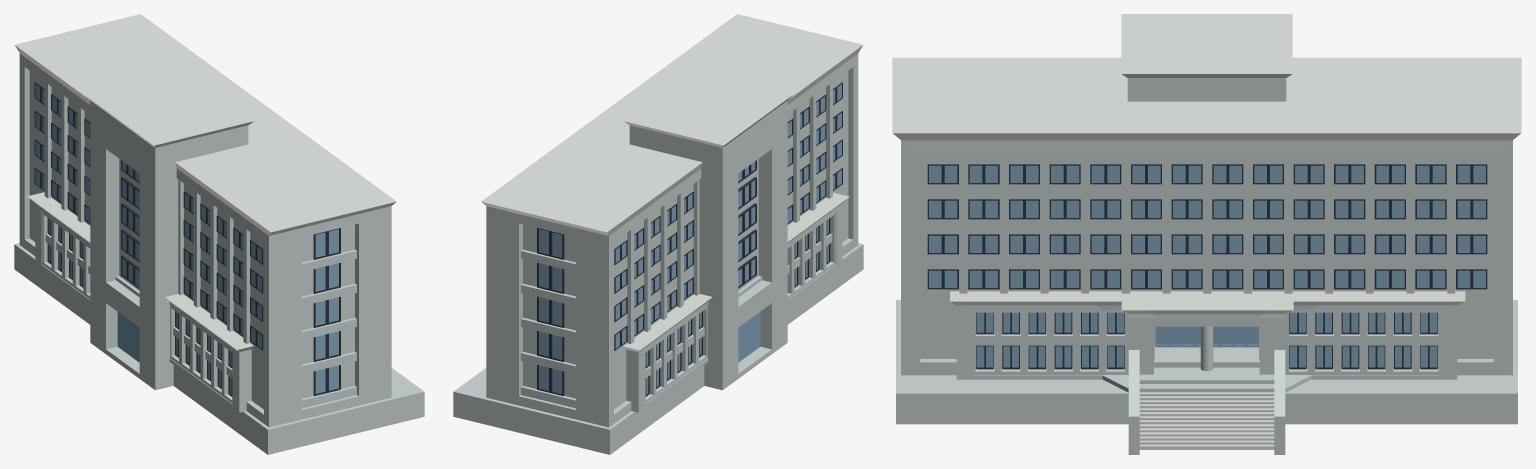
Rendered from 융합관.fbx.
3 views of the same model, side by side, from view 1: azimuth 30°, elevation 25°; view 2: azimuth 150°, elevation 25°; view 3: azimuth 270°, elevation 25° (orthographic). The views are drawn at different scales.
Visible parts, largest first — view 1: build.003, build, build.002, Cube.002, Cube, window, window.003, Cube.003, window.005, window.001, window.004, Cube.001; view 2: build.003, build, build.002, Cube.002, Cube, window, window.003, Cube.003, window.005, window.001, window.004, Cube.001; view 3: build.003, window, build.001, Cube.002, Cube, build, window.001, stair, Cube.001, Cube.004, window.002, Cylinder.
Part boxes in pixels (x1,y1,x2,y2): build.003: [15, 14, 396, 427]; build: [84, 70, 253, 390]; build.002: [28, 192, 253, 412]; Cube.002: [14, 243, 424, 454]; Cube: [44, 82, 250, 343]; window: [34, 82, 263, 350]; window.003: [313, 228, 340, 395]; Cube.003: [302, 249, 356, 408]; window.005: [121, 160, 139, 288]; window.001: [47, 218, 232, 396]; window.004: [117, 312, 139, 362]; Cube.001: [45, 233, 232, 377]; build.003: [481, 14, 862, 427]; build: [624, 70, 793, 390]; build.002: [623, 192, 849, 412]; Cube.002: [453, 243, 863, 454]; Cube: [627, 82, 832, 343]; window: [614, 82, 842, 350]; window.003: [537, 228, 564, 395]; Cube.003: [521, 249, 575, 408]; window.005: [738, 160, 756, 288]; window.001: [645, 218, 830, 396]; window.004: [738, 312, 760, 362]; Cube.001: [645, 233, 832, 377]; build.003: [892, 57, 1521, 375]; window: [927, 164, 1487, 289]; build.001: [950, 291, 1465, 392]; Cube.002: [896, 300, 1517, 424]; Cube: [959, 153, 1454, 293]; build: [1121, 14, 1292, 101]; window.001: [976, 312, 1437, 369]; stair: [1139, 392, 1274, 449]; Cube.001: [975, 334, 1438, 345]; Cube.004: [1128, 350, 1285, 454]; window.002: [1155, 326, 1258, 347]; Cylinder: [1200, 326, 1213, 371].
Size of the model in its own units: 1737 by 1868 by 3462.
